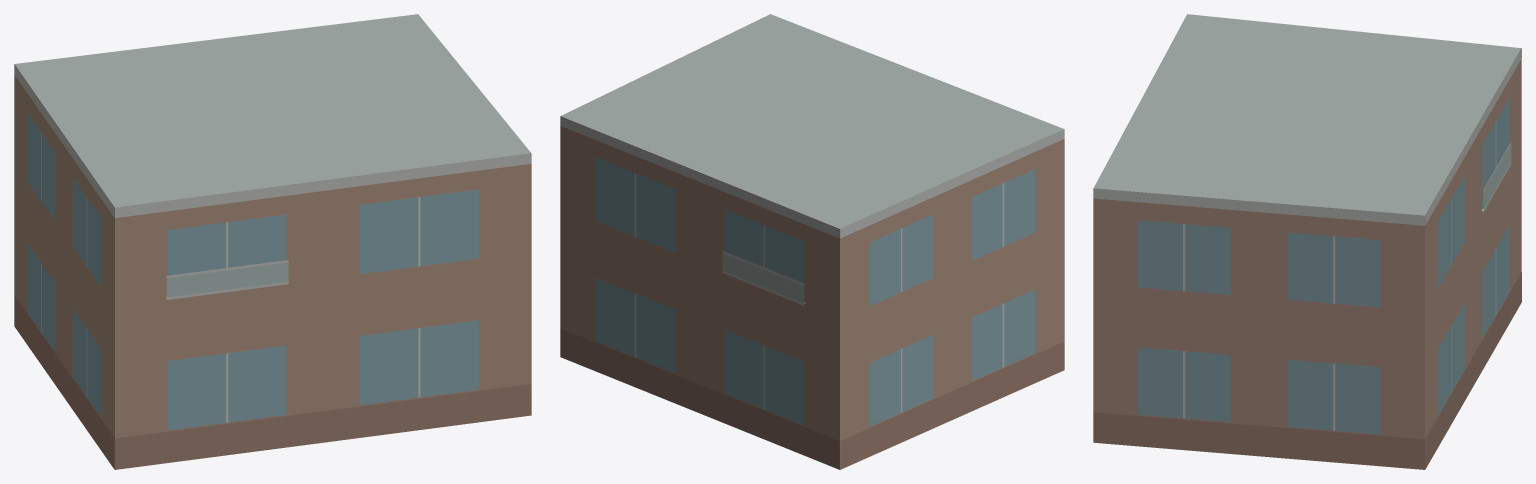
File: survey-upis-32656321.glb
3 renders of one model, left to right at view 1: azimuth 30°, elevation 25°; view 2: azimuth 150°, elevation 25°; view 3: azimuth 270°, elevation 25°, orthographic. The views are drawn at different scales.
Parts seen in each view (by area): view 1: survey-upis-32656321.tmp; view 2: survey-upis-32656321.tmp; view 3: survey-upis-32656321.tmp.
Part boxes in pixels (bbox=[...]): survey-upis-32656321.tmp: bbox=[14, 14, 531, 469]; survey-upis-32656321.tmp: bbox=[560, 14, 1064, 469]; survey-upis-32656321.tmp: bbox=[1093, 14, 1521, 469].
Size of the model in its own units: 10.38 by 6.1 by 9.32.
